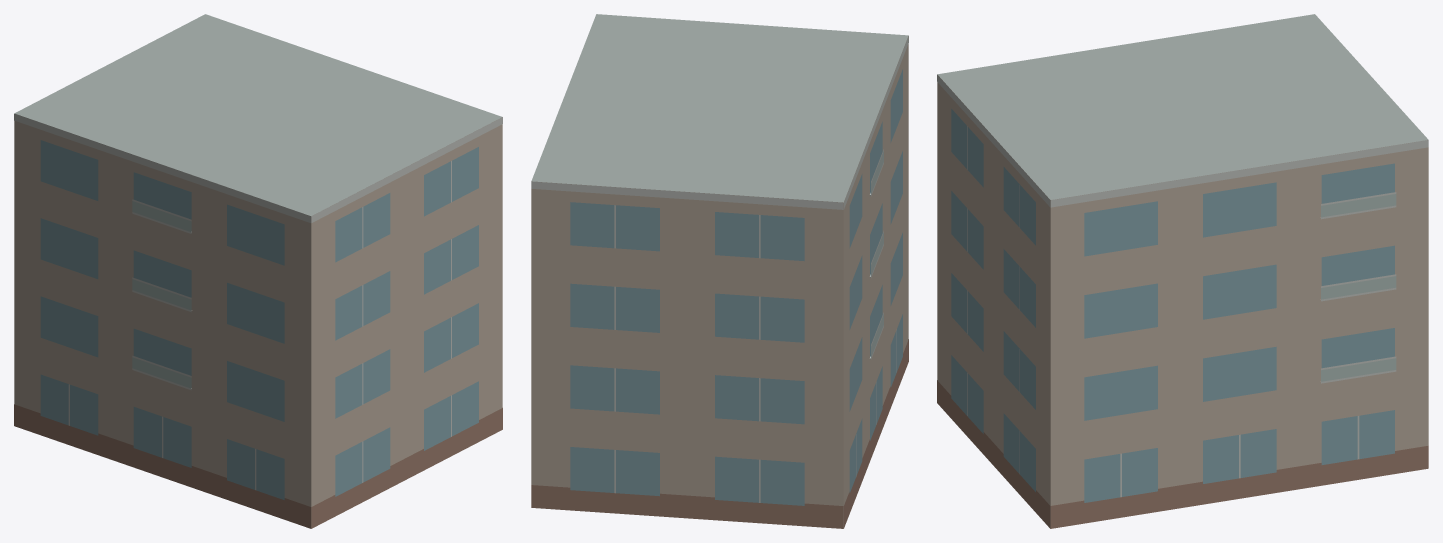
The model's file is survey-upis-33044859.glb.
3 renders of one model, left to right at view 1: azimuth 30°, elevation 25°; view 2: azimuth 150°, elevation 25°; view 3: azimuth 270°, elevation 25°, orthographic. The views are drawn at different scales.
Visible parts, largest first — view 1: survey-upis-33044859.tmp; view 2: survey-upis-33044859.tmp; view 3: survey-upis-33044859.tmp.
Part boxes in pixels (x1,y1,x2,y2): survey-upis-33044859.tmp: (14, 14, 502, 528); survey-upis-33044859.tmp: (531, 14, 908, 528); survey-upis-33044859.tmp: (937, 14, 1428, 528).
Bounding box in the file's own units: 13 × 10.7 × 14.51.
